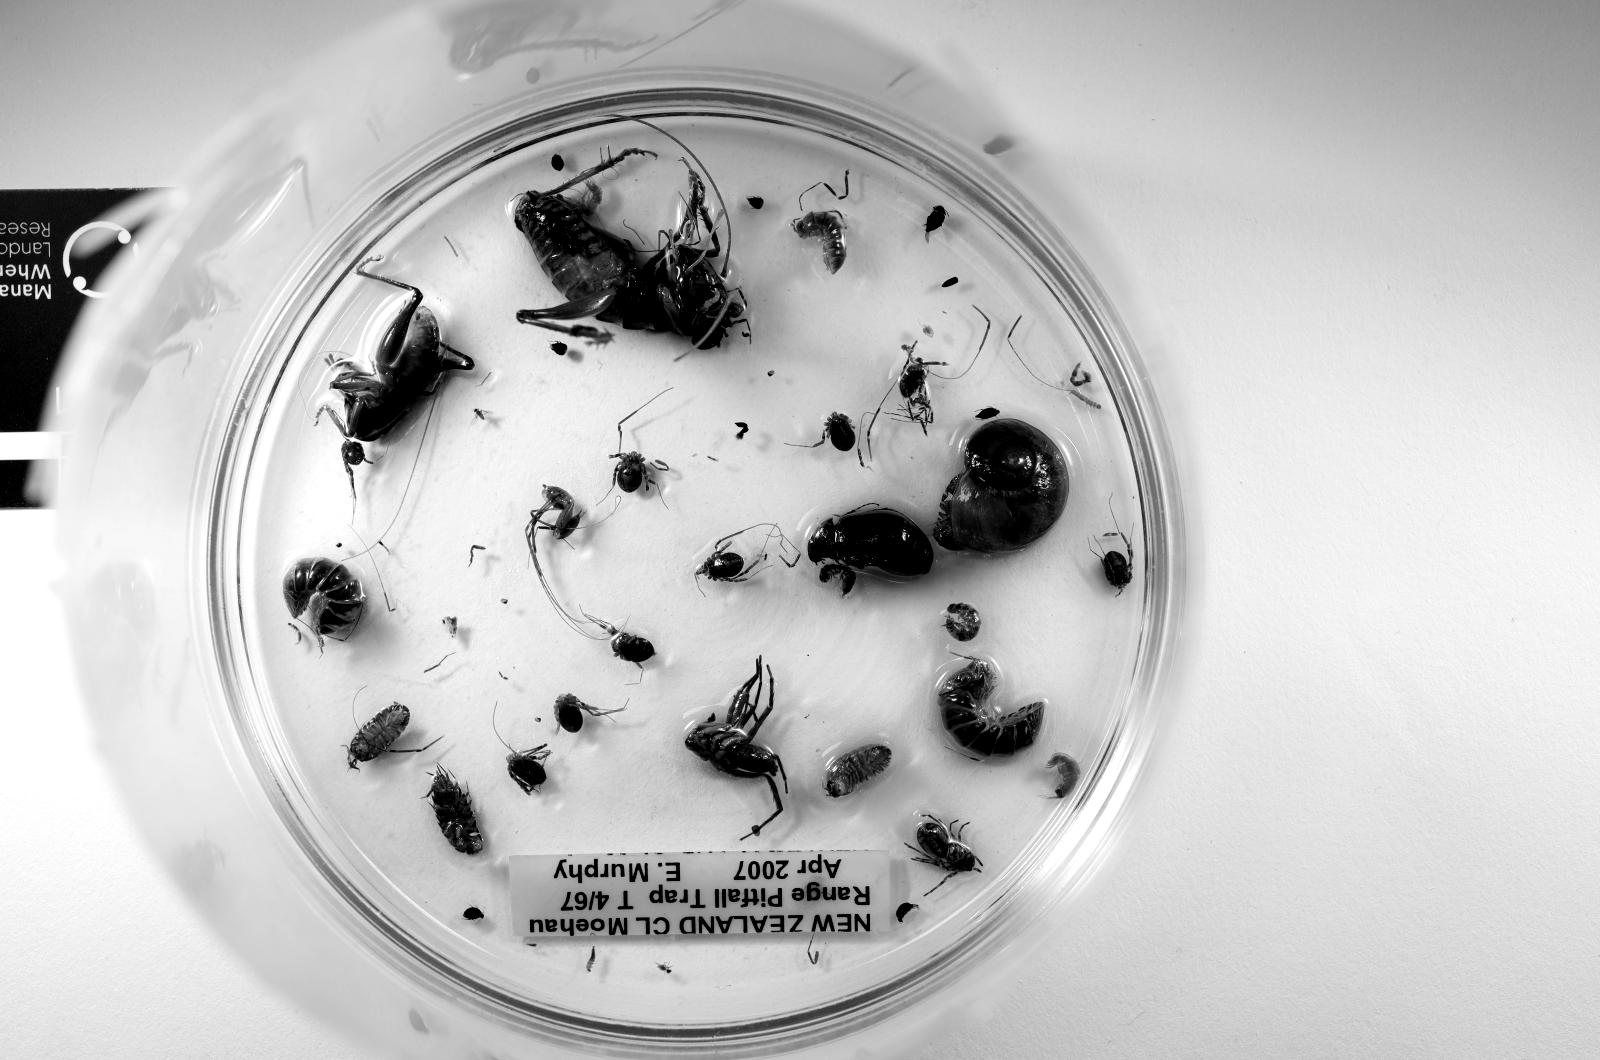amphipoda: (1047, 751, 1081, 799)
araneae: (685, 658, 784, 842), (906, 814, 982, 899)
coleoptera: (807, 506, 934, 581), (925, 205, 947, 233), (896, 903, 919, 923), (462, 906, 485, 923), (974, 407, 1000, 419)
coleoptera_larva: (1069, 392, 1100, 409), (584, 948, 597, 972)
diptera: (471, 407, 495, 426)
gastropoda: (934, 419, 1069, 552)
isopoda: (938, 658, 1044, 755), (284, 558, 365, 640), (428, 764, 481, 854), (346, 702, 409, 767), (822, 745, 890, 799), (791, 211, 847, 273), (944, 602, 982, 642), (818, 562, 856, 596)
opiliones: (525, 485, 584, 625), (584, 615, 656, 667), (553, 692, 626, 733), (697, 537, 759, 581), (613, 451, 669, 493), (1097, 531, 1134, 593), (506, 745, 550, 795), (809, 413, 856, 451), (341, 441, 365, 500)
orthoptera: (516, 149, 653, 344), (331, 267, 475, 441)
